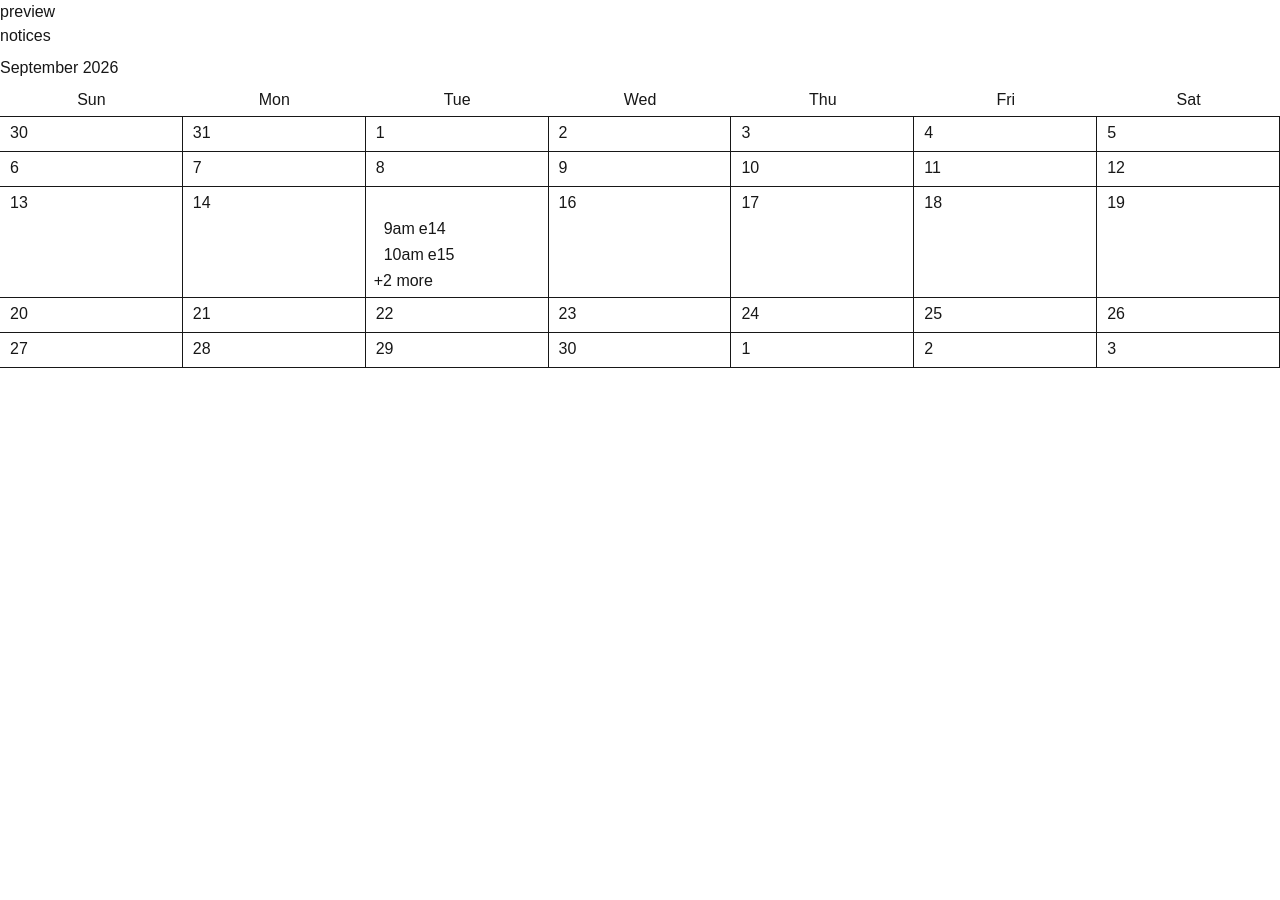
Test: MonthBody › opens the day's full list from a cell's overflow, and closes it again
Click the button with aria-label "more on 2026-09-15". click: (403, 281)
box: [370,269,437,293]
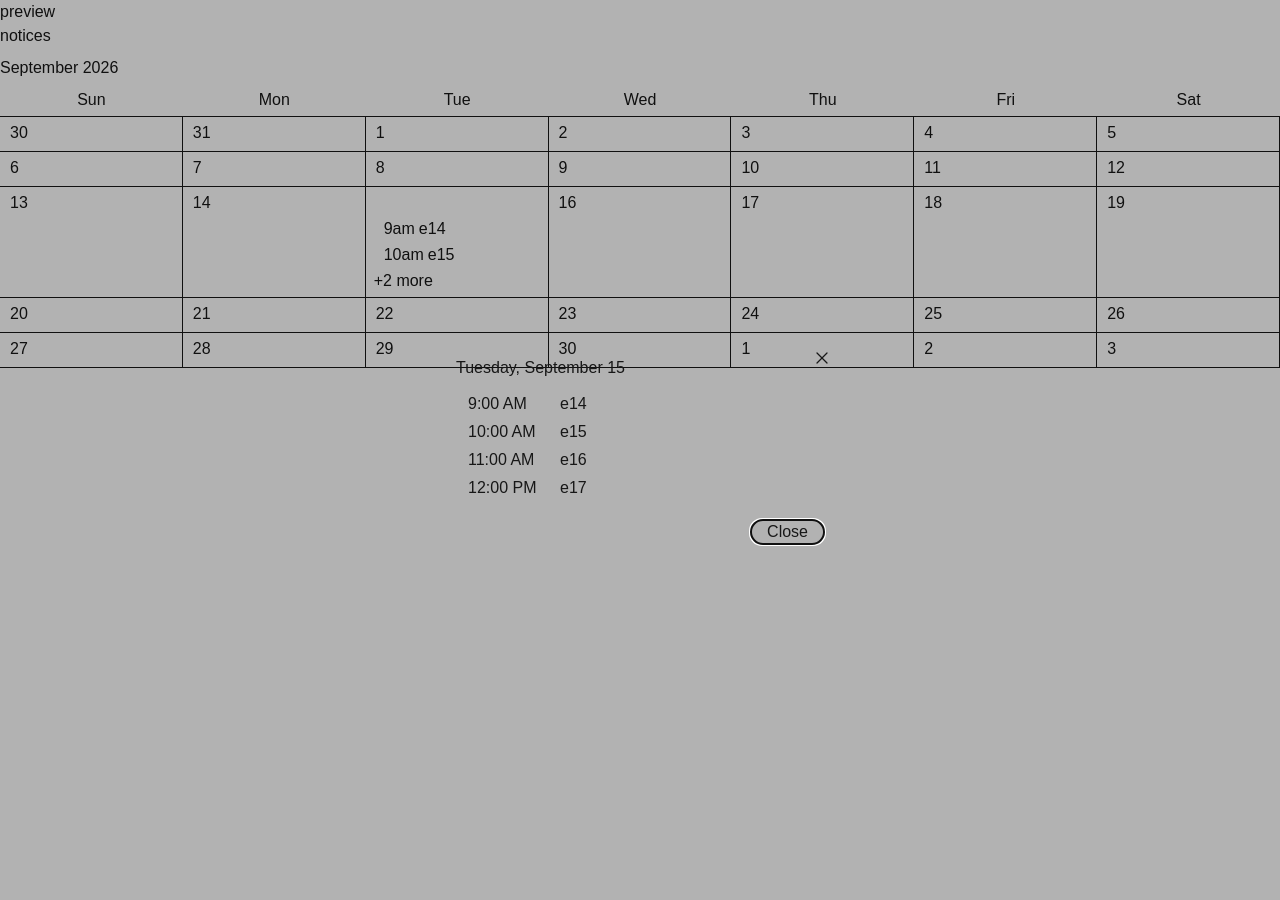
Result: the dialog is shown at [432,332,848,568]
Click the button "Close". click: (788, 532)
box: [751,520,824,544]
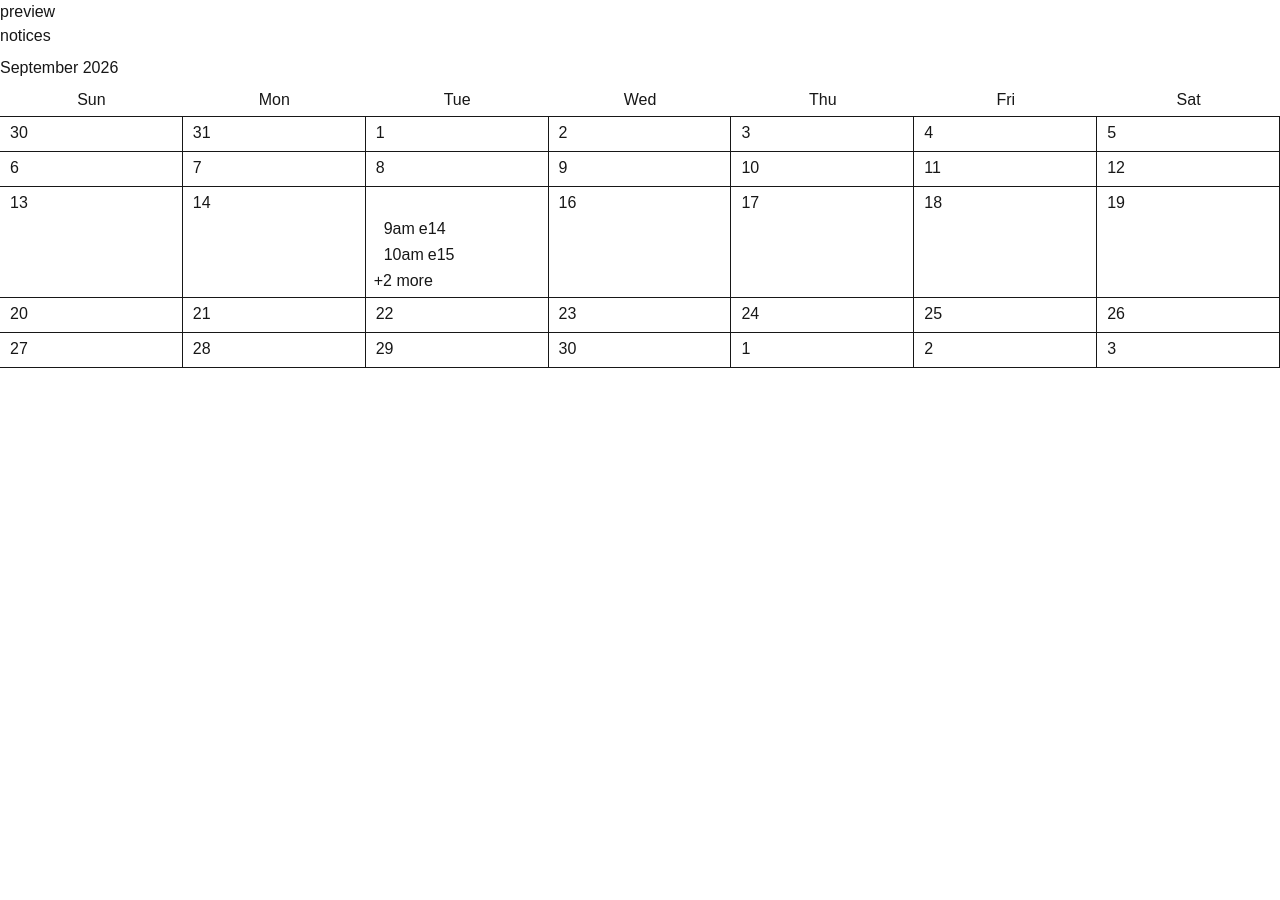
Result: the dialog is gone
